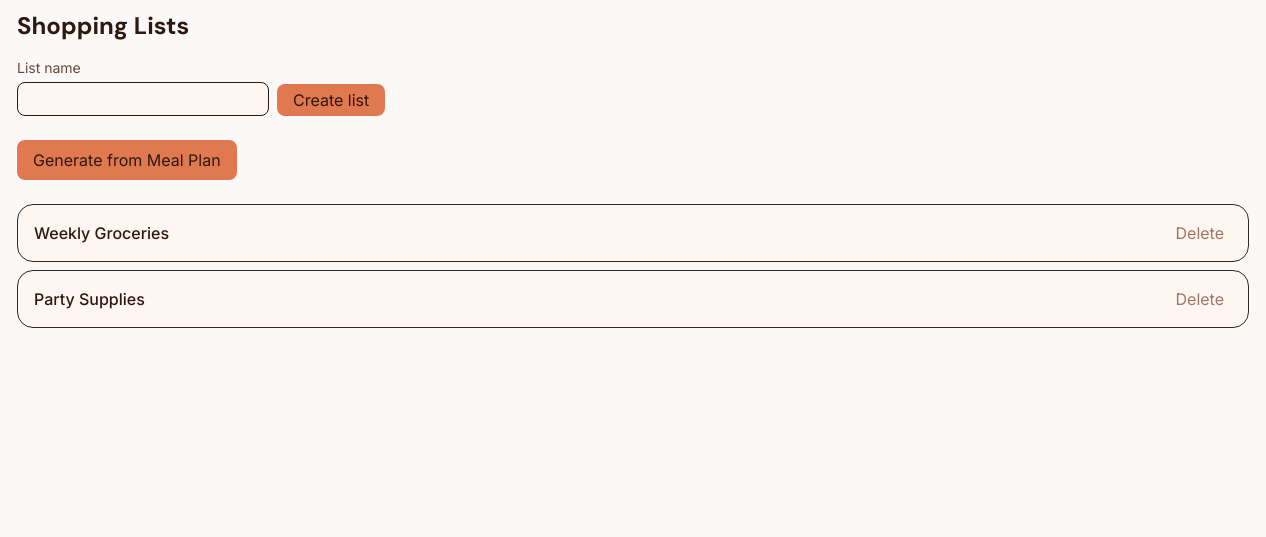
Test: ShoppingListPage › Generate from Meal Plan › should generate a shopping list when a week is confirmed
Check: the button "Weekly Groceries" is shown, box x1=34 y1=221 x2=169 y2=245
Click the button "Generate from Meal Plan": (127, 160) x1=17 y1=140 x2=237 y2=180
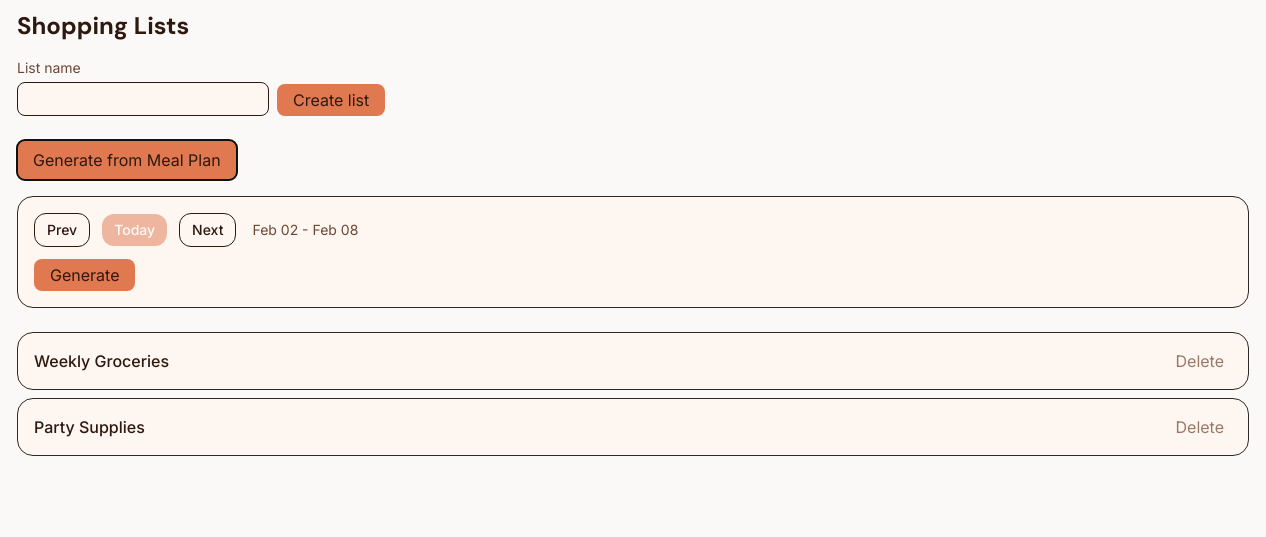
Check: the button "Generate" is shown
Click the button "Generate": (85, 275) x1=34 y1=259 x2=136 y2=291
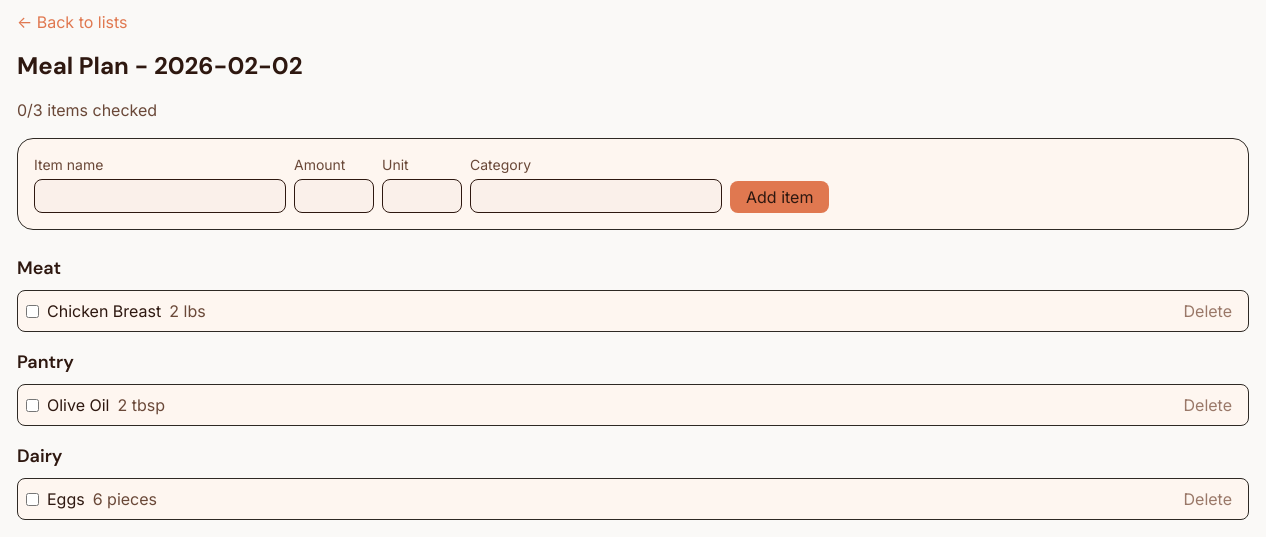
Check: the text "Chicken Breast" is shown, box x1=47 y1=301 x2=161 y2=321
Check: the text "Olive Oil" is shown, box x1=47 y1=395 x2=110 y2=415
Check: the text "Eggs" is shown, box x1=47 y1=489 x2=85 y2=509
